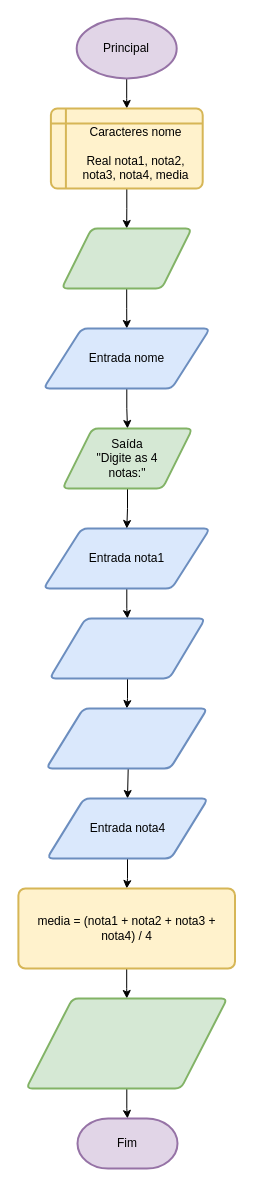
Image size: 253x1186. Some labels were removed from this diagram. Here are the shapes that lost their labels. From the top down, the box of each, then its label:
(60, 227, 192, 289): Saída "Digite o seu nome:"
(48, 617, 206, 679): Entrada nota2
(45, 707, 208, 769): Entrada nota3
(25, 997, 228, 1089): Saída "Seu nome é " & nome & " sua média foi " & media
